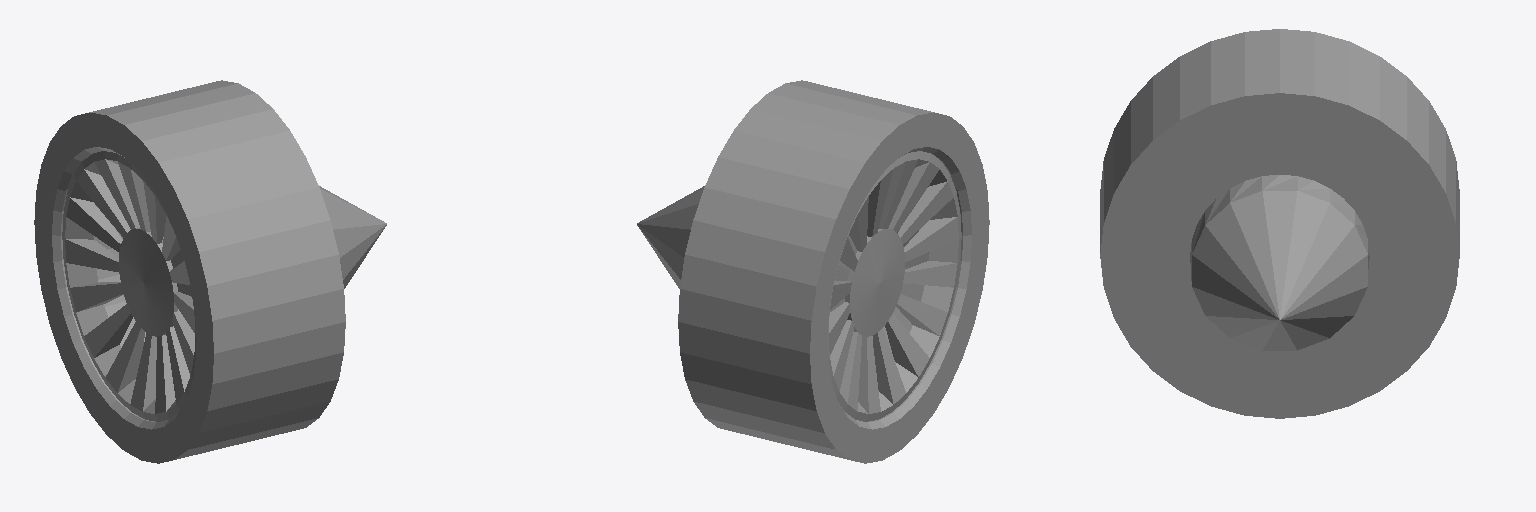
File: Wheel.obj
3 renders of one model, left to right at view 1: azimuth 30°, elevation 25°; view 2: azimuth 150°, elevation 25°; view 3: azimuth 270°, elevation 25°, orthographic.
Visible parts, largest first — view 1: Tire_Car_01.001; view 2: Tire_Car_01.001; view 3: Tire_Car_01.001.
Boxes of the visible parts, <box> form: Tire_Car_01.001: <box>34,80,386,463</box>; Tire_Car_01.001: <box>637,80,989,463</box>; Tire_Car_01.001: <box>1100,29,1459,418</box>.
Size of the model in its own units: 0.44 by 0.52 by 0.52.